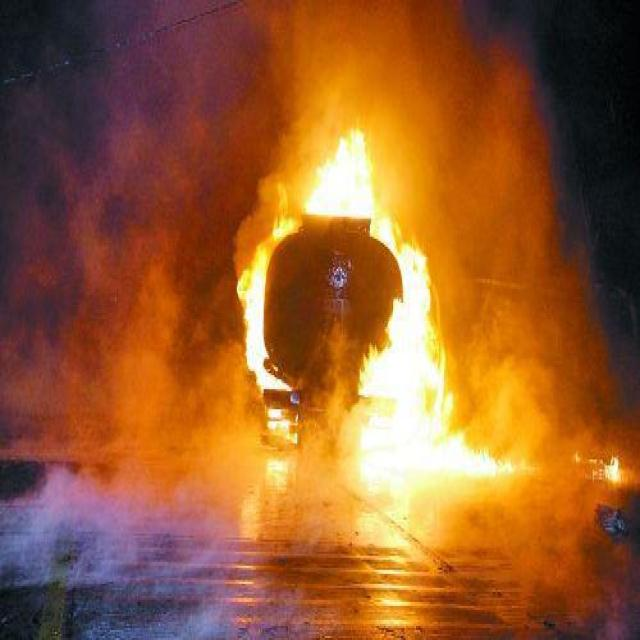fire: (218, 141, 488, 481)
